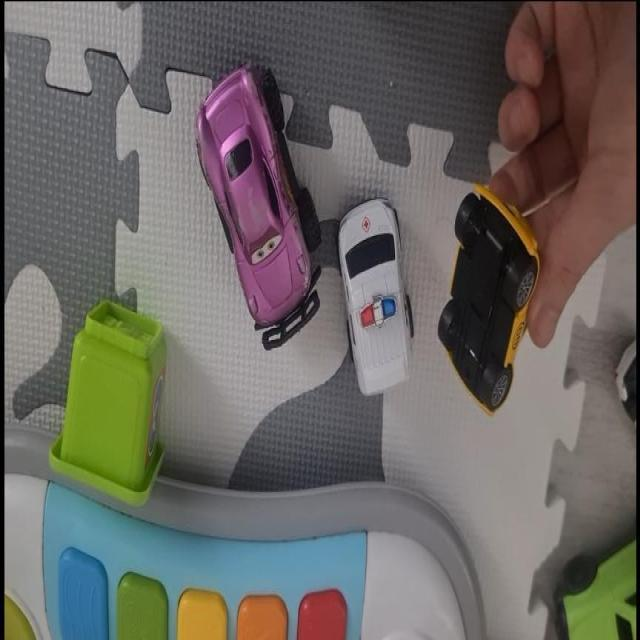hard-toy: (197, 66, 321, 350), (440, 186, 540, 412), (340, 200, 414, 395)
